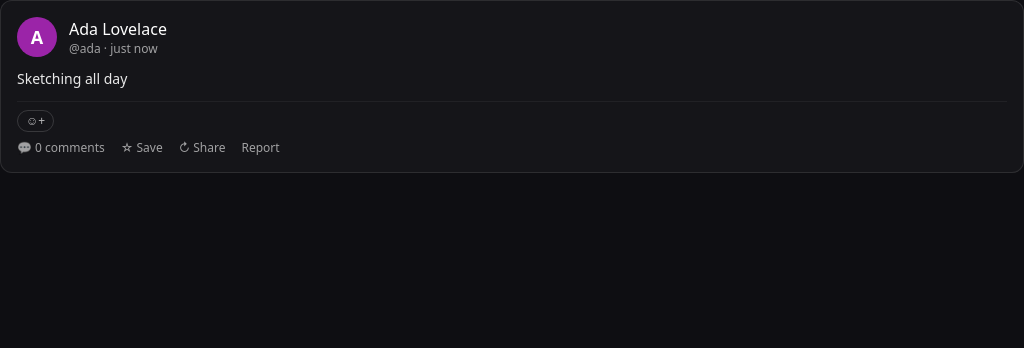
Test case: sharing a post › says why it couldn't be shared and lets them try again
This screenshot has width=1024, height=348.
Click the button with aria-label "Share this post to your feed" at (202, 148), box left=179, top=140, right=226, bottom=156
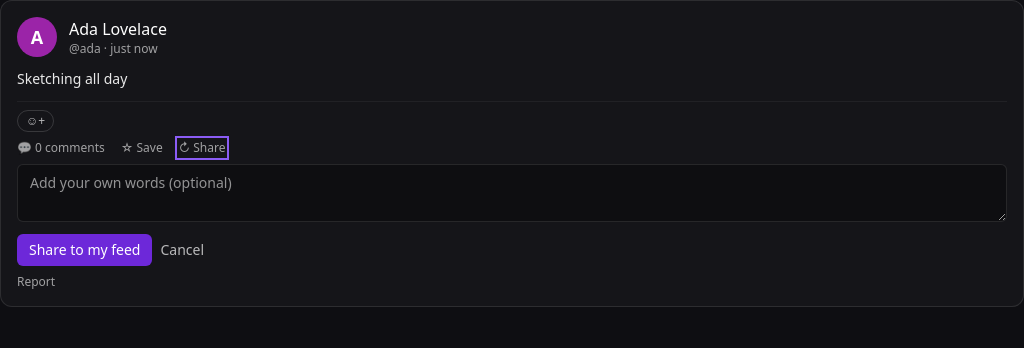
Click the button "Share to my feed" at (85, 250), box left=17, top=234, right=152, bottom=266
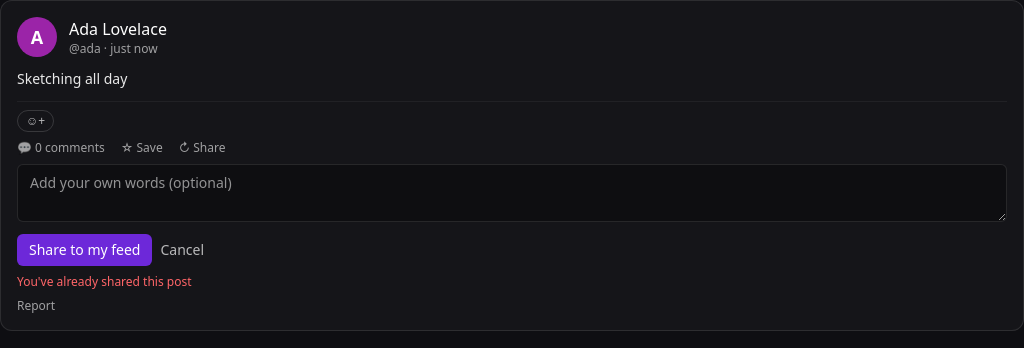
expect the button "Share to my feed" is enabled: met, box left=17, top=234, right=152, bottom=266
expect the message reads "You've already shared this post": met, box left=17, top=273, right=192, bottom=290
